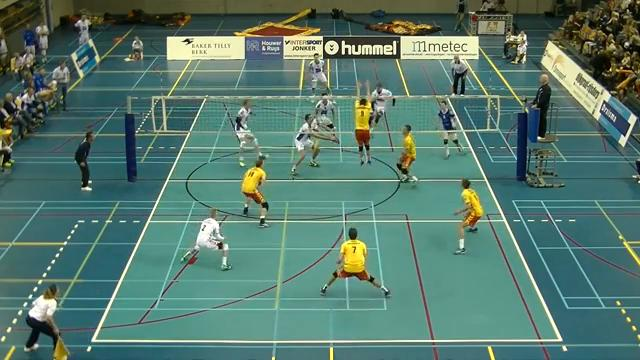attacco: (367, 80, 397, 135)
muro: (351, 76, 375, 170)
